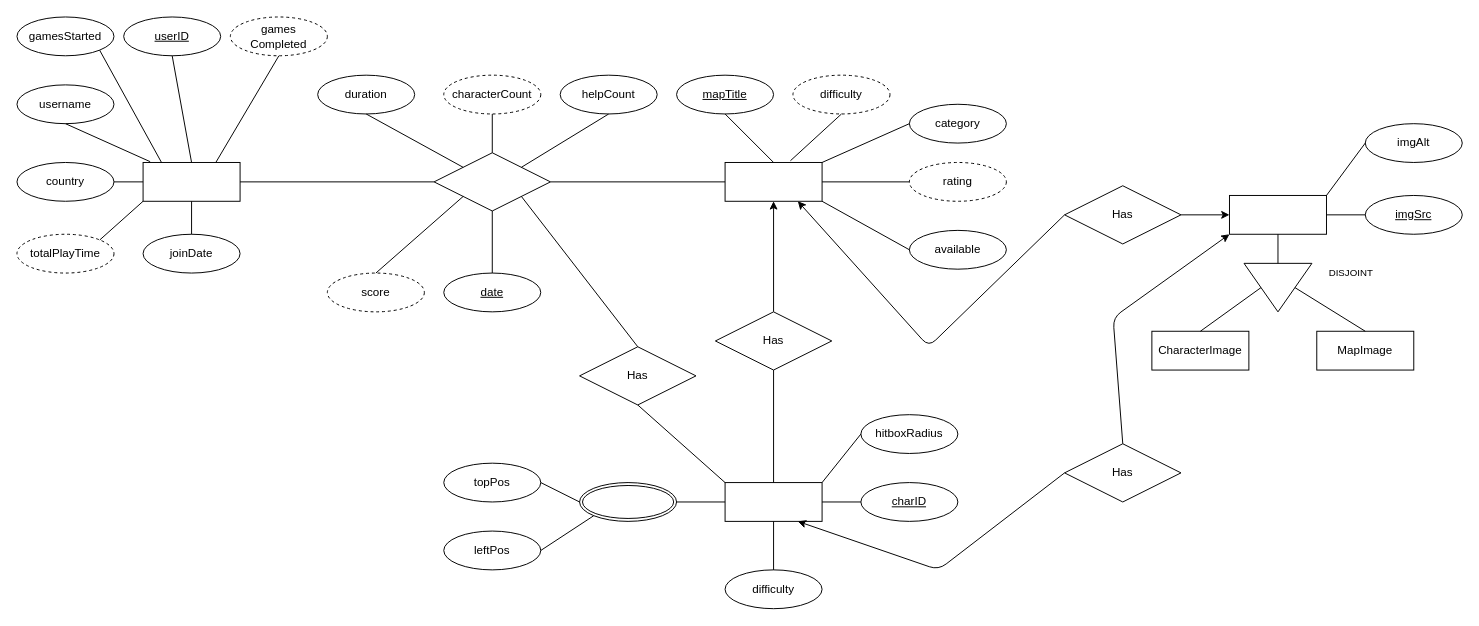
Some shapes in this 1479 by 626 pixel diagram are drawn without their labels. Here are the shapes that lost their labels. From the top down, the centre of each, then its label:
At (x=191, y=181): "User".
At (x=491, y=181): "Plays".
At (x=773, y=181): "Map".
At (x=1277, y=214): "Image".
At (x=1277, y=287): "ISA".
At (x=628, y=501): "position".
At (x=773, y=501): "Character".
